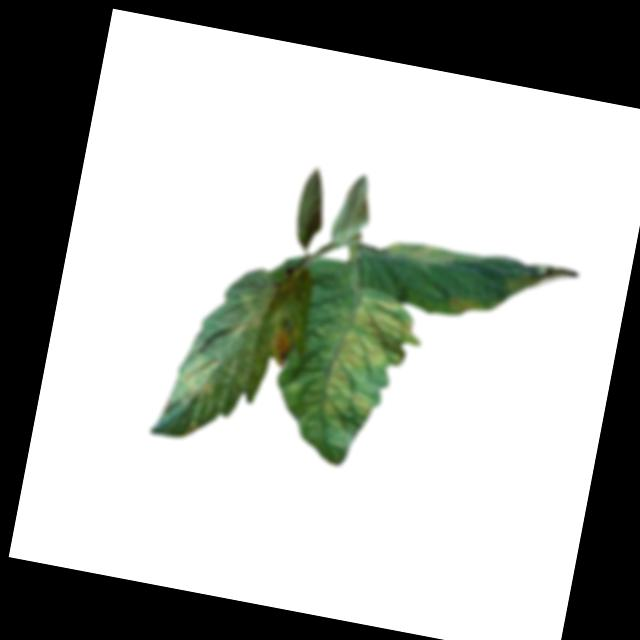Leaf_Mold: (298, 281, 428, 447), (227, 276, 289, 349), (500, 255, 584, 308), (382, 234, 483, 278), (175, 349, 224, 406), (441, 288, 495, 323), (267, 312, 301, 367)
